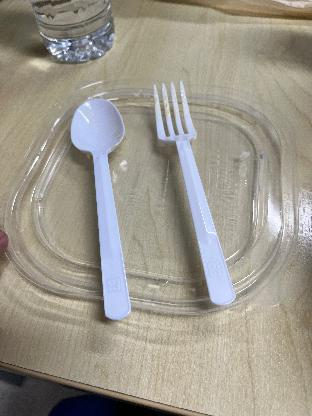Others: (134, 76, 250, 312), (66, 95, 146, 332)
